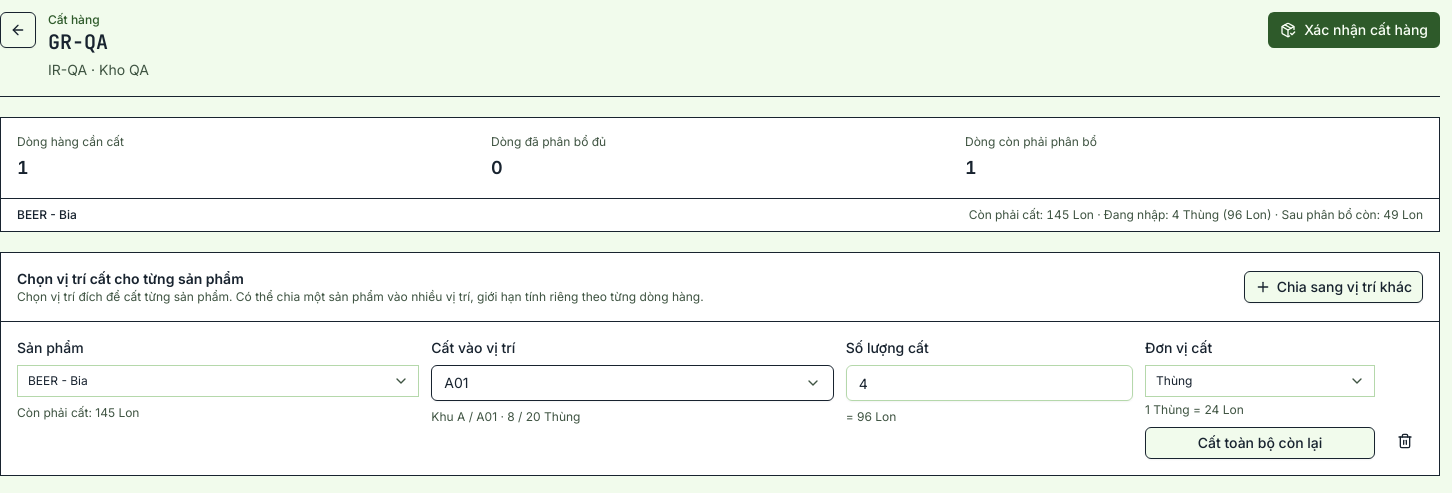
Test: put-away operational-unit form › visibly switches to base UOM for an indivisible remainder
Click the button "Cất toàn bộ còn lại" at point(1260, 443), box [1145, 427, 1375, 459]
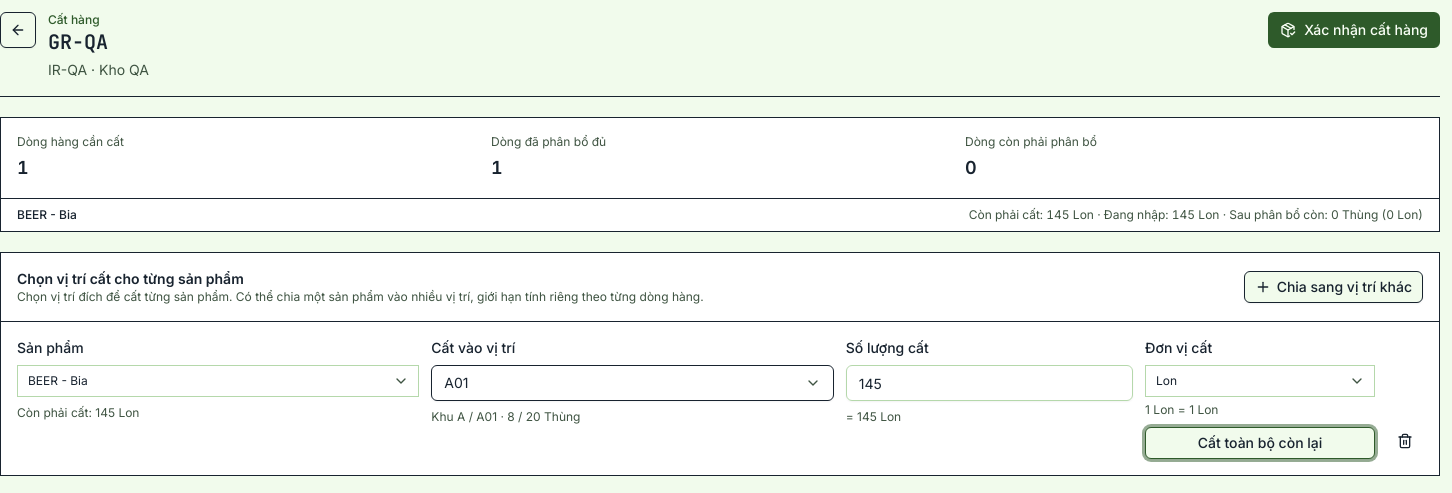
Now the dropdown labelled "Đơn vị cất" shows "Lon", box [1145, 365, 1375, 397]
Now the number field labelled "Số lượng cất" holds "145", box [846, 365, 1133, 401]
Now the text "= 145 Lon" is shown, box [846, 409, 901, 424]
